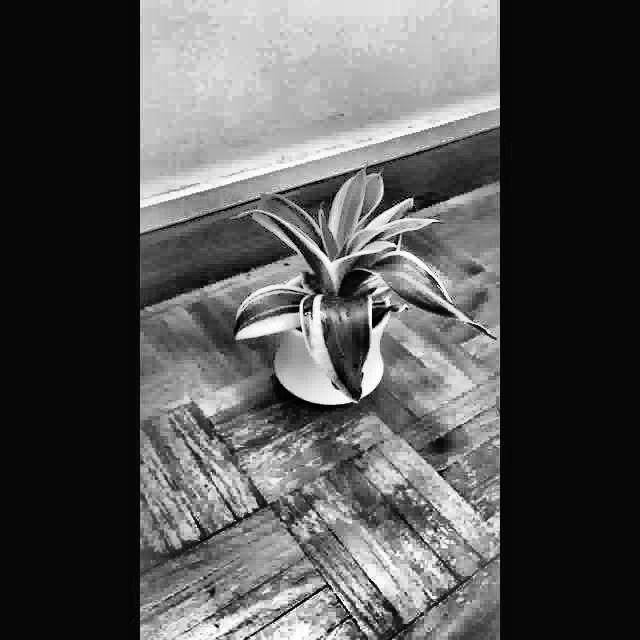plants: (231, 149, 500, 426)
